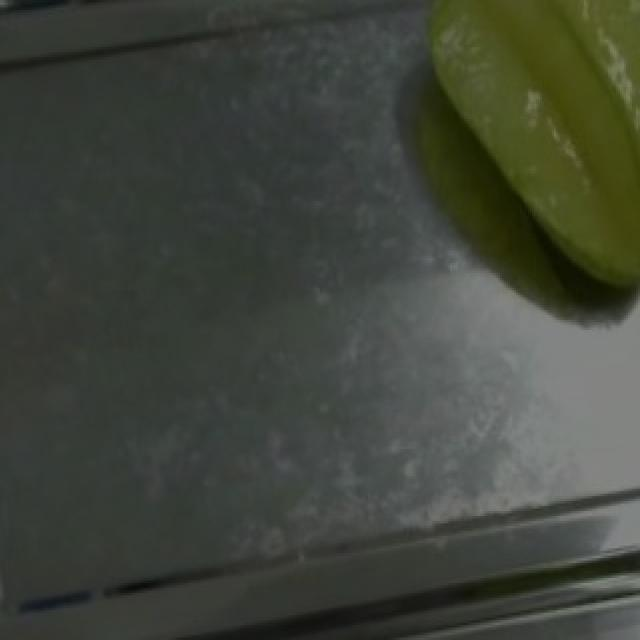fruit: (398, 0, 640, 320)
